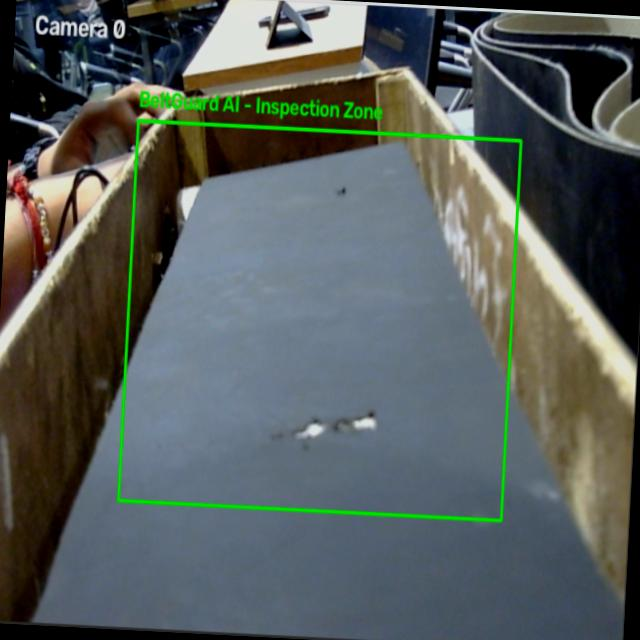eroded: (270, 409, 378, 450)
scratch: (324, 182, 389, 213)
